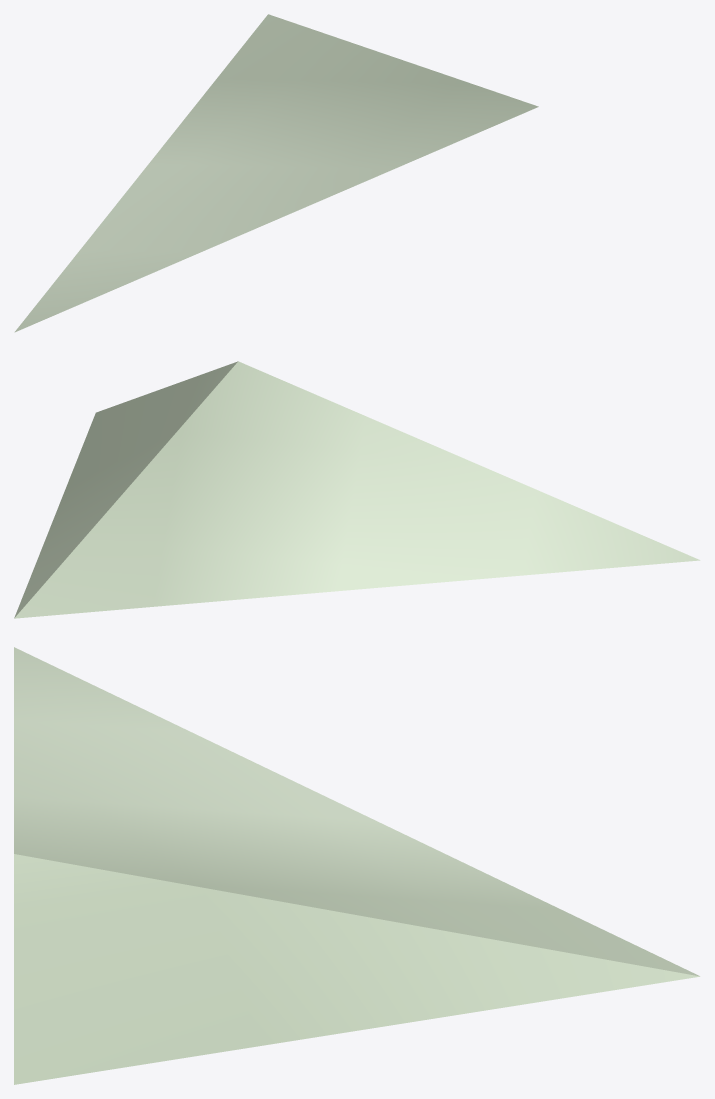
The picture shows the model from 3 angles, top to bottom: view 1: azimuth 30°, elevation 25°; view 2: azimuth 150°, elevation 25°; view 3: azimuth 270°, elevation 25°; orthographic projection. The views are drawn at different scales.
Size of the model in its own units: 0.0438 by 0.00597 by 0.029.
1 material, 1 textured.
